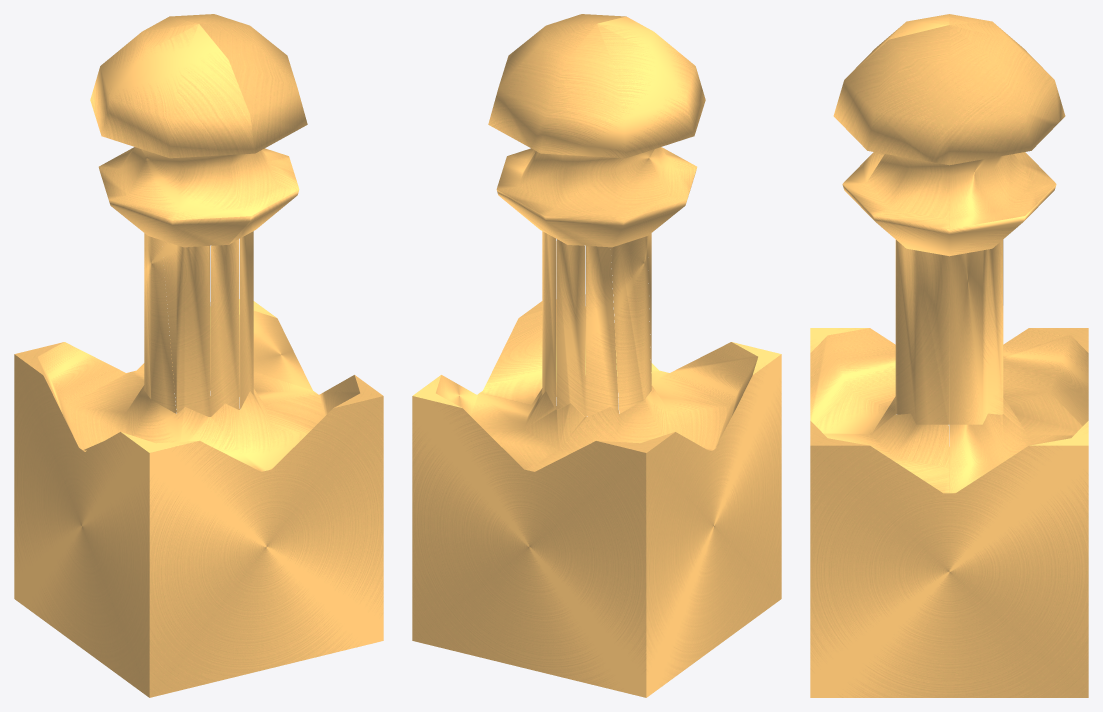
The model's file is gold_statue.gltf.
3 renders of one model, left to right at view 1: azimuth 30°, elevation 25°; view 2: azimuth 150°, elevation 25°; view 3: azimuth 270°, elevation 25°, orthographic. The views are drawn at different scales.
Parts seen in each view (by area): view 1: CSGBox3D2; view 2: CSGBox3D2; view 3: CSGBox3D2.
Boxes of the visible parts, x1,y1,x2,y2 form: CSGBox3D2: [14, 14, 383, 697]; CSGBox3D2: [412, 14, 781, 697]; CSGBox3D2: [810, 14, 1088, 697].
Bounding box in the file's own units: 0.3 × 0.7303 × 0.3.
Materials: 2 (1 with a texture image).
